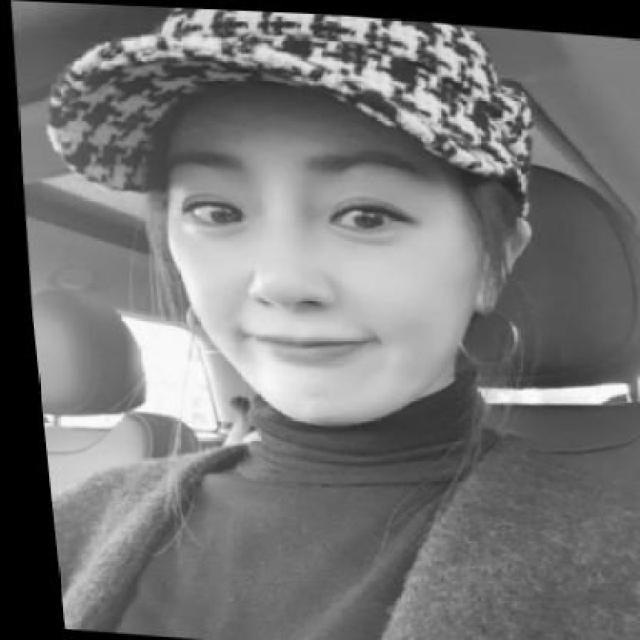hat: (34, 2, 543, 220)
